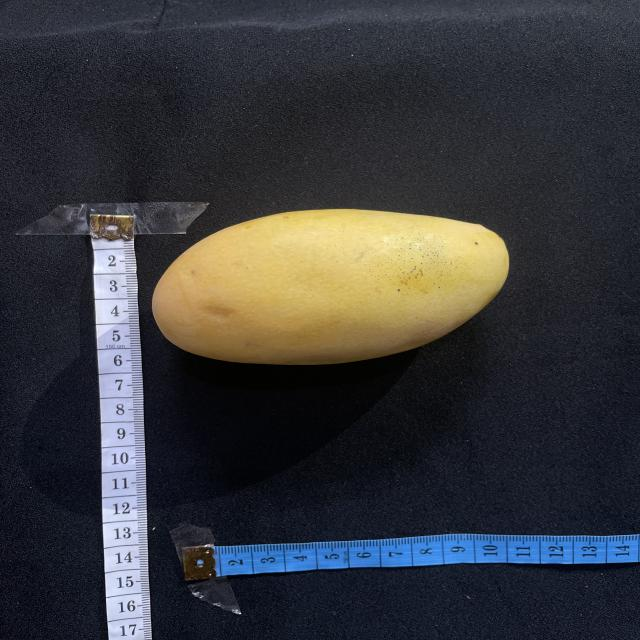Ripe: (152, 209, 509, 364)
